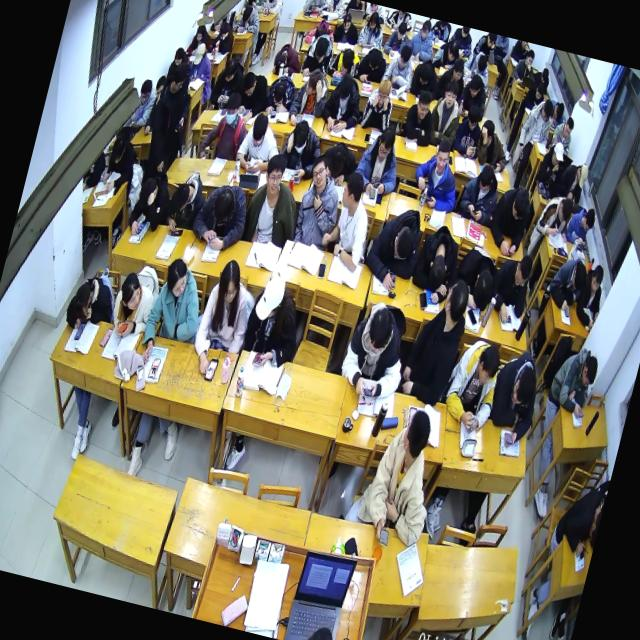bow: (481, 343, 548, 451), (360, 200, 429, 294), (186, 175, 254, 258), (409, 218, 466, 294), (447, 242, 504, 316), (61, 270, 119, 339), (160, 164, 212, 237), (276, 115, 328, 183), (542, 252, 590, 315), (570, 260, 612, 332), (471, 116, 516, 174), (230, 68, 272, 130), (316, 138, 362, 190), (260, 70, 299, 122), (407, 54, 444, 102), (325, 42, 363, 84), (355, 42, 391, 86), (269, 38, 304, 80), (430, 34, 462, 74), (302, 14, 338, 48), (461, 48, 494, 84), (231, 0, 263, 34), (545, 98, 568, 128), (239, 0, 266, 18)
down: (252, 270, 288, 326), (362, 304, 398, 358), (506, 361, 539, 410), (473, 341, 504, 390), (215, 256, 246, 304), (388, 224, 418, 265), (210, 185, 237, 228), (70, 278, 95, 320), (287, 118, 313, 158), (508, 185, 534, 224), (510, 252, 536, 290), (248, 108, 272, 149), (374, 123, 398, 162), (324, 142, 348, 180), (136, 172, 160, 208), (578, 353, 600, 392), (168, 58, 190, 94), (372, 74, 394, 110), (170, 180, 192, 216), (554, 196, 576, 227), (475, 163, 496, 194), (107, 134, 127, 166), (311, 32, 331, 64), (334, 75, 354, 106), (569, 261, 589, 292), (548, 138, 567, 170), (416, 58, 436, 88), (239, 68, 259, 98), (270, 76, 289, 106), (136, 76, 154, 106), (464, 70, 482, 100), (463, 103, 481, 133), (395, 42, 413, 70), (580, 205, 598, 233), (572, 161, 590, 189), (190, 41, 208, 68), (221, 56, 238, 84), (338, 46, 356, 72), (366, 46, 384, 71), (538, 96, 555, 122), (418, 17, 434, 41), (560, 116, 576, 140), (444, 39, 459, 64), (474, 52, 489, 74), (551, 100, 566, 122), (394, 19, 408, 42), (366, 10, 381, 31), (532, 79, 546, 101), (240, 3, 254, 24), (341, 10, 354, 32), (522, 48, 536, 68), (217, 19, 230, 40), (194, 22, 206, 43), (245, 0, 259, 8), (265, 0, 279, 6)
lookup: (260, 150, 290, 198), (306, 154, 332, 192), (429, 137, 454, 176), (220, 89, 243, 127), (412, 86, 434, 120), (586, 262, 606, 296), (442, 77, 462, 109)
sit: (351, 398, 452, 554), (396, 270, 476, 410), (185, 252, 262, 382), (135, 252, 213, 374), (334, 298, 417, 407), (236, 267, 312, 375), (240, 146, 312, 252), (436, 333, 508, 436), (314, 165, 381, 273), (136, 58, 193, 180), (289, 150, 352, 250), (406, 130, 470, 214), (349, 118, 409, 203), (196, 85, 256, 169), (547, 480, 607, 560), (544, 339, 602, 419), (482, 180, 534, 262), (485, 248, 537, 328), (106, 268, 160, 344), (232, 108, 288, 178), (126, 166, 176, 240), (422, 76, 468, 152), (317, 70, 368, 138), (455, 157, 506, 225), (285, 62, 334, 132), (399, 86, 442, 149), (99, 132, 140, 198), (357, 74, 399, 136), (206, 54, 248, 115), (378, 38, 421, 96), (532, 190, 577, 243), (516, 94, 558, 149), (450, 100, 488, 160), (430, 51, 470, 107), (299, 26, 339, 80), (454, 71, 493, 125), (128, 76, 160, 130), (563, 200, 599, 248), (535, 138, 568, 190), (406, 14, 440, 64), (556, 157, 591, 204), (355, 8, 389, 52), (186, 40, 218, 85), (331, 5, 365, 46), (382, 17, 414, 60), (510, 46, 538, 89), (208, 18, 238, 58), (549, 114, 577, 152), (521, 78, 548, 116), (186, 20, 213, 57), (261, 0, 286, 16)
